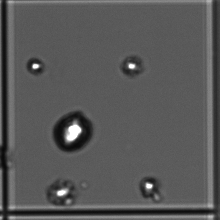Living Cell: (52, 114, 93, 148), (50, 181, 76, 202), (25, 57, 44, 74), (122, 57, 140, 74), (141, 178, 157, 192)
